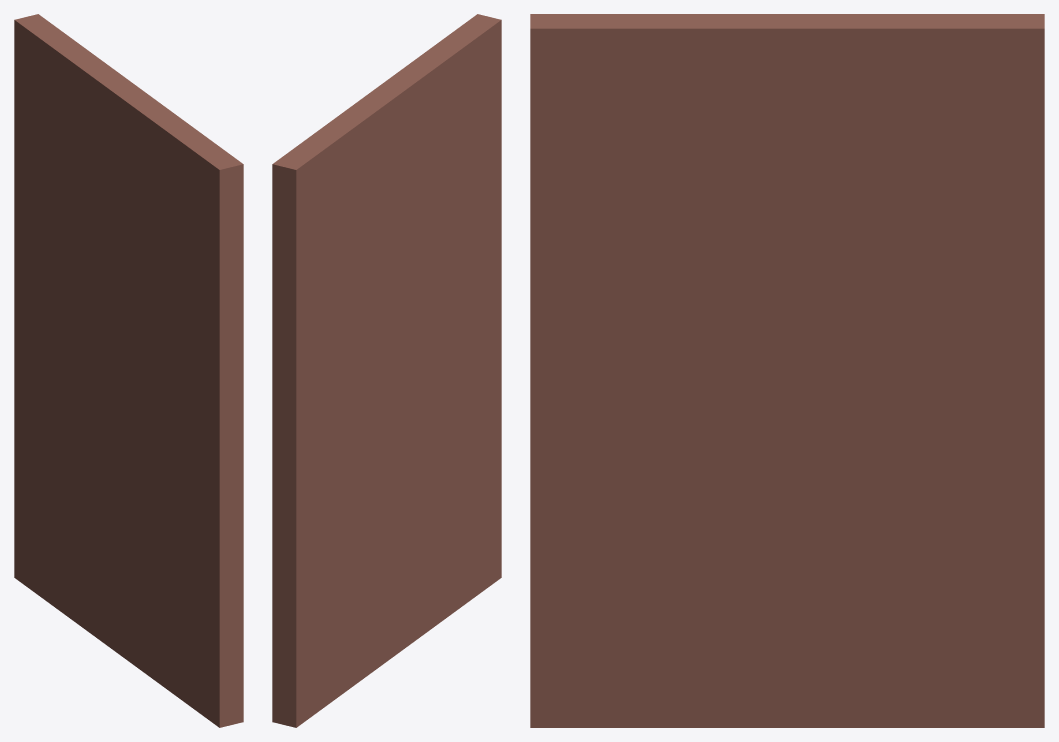
Rendered from T_MurBase_02.fbx.
3 renders of one model, left to right at view 1: azimuth 30°, elevation 25°; view 2: azimuth 150°, elevation 25°; view 3: azimuth 270°, elevation 25°, orthographic. The views are drawn at different scales.
Visible parts, largest first — view 1: T_MurBase_02; view 2: T_MurBase_02; view 3: T_MurBase_02.
Part boxes in pixels (x1,y1,x2,y2): T_MurBase_02: (14, 14, 243, 727); T_MurBase_02: (272, 14, 501, 727); T_MurBase_02: (530, 14, 1044, 727).
Size of the model in its own units: 13.48 by 300 by 200.
